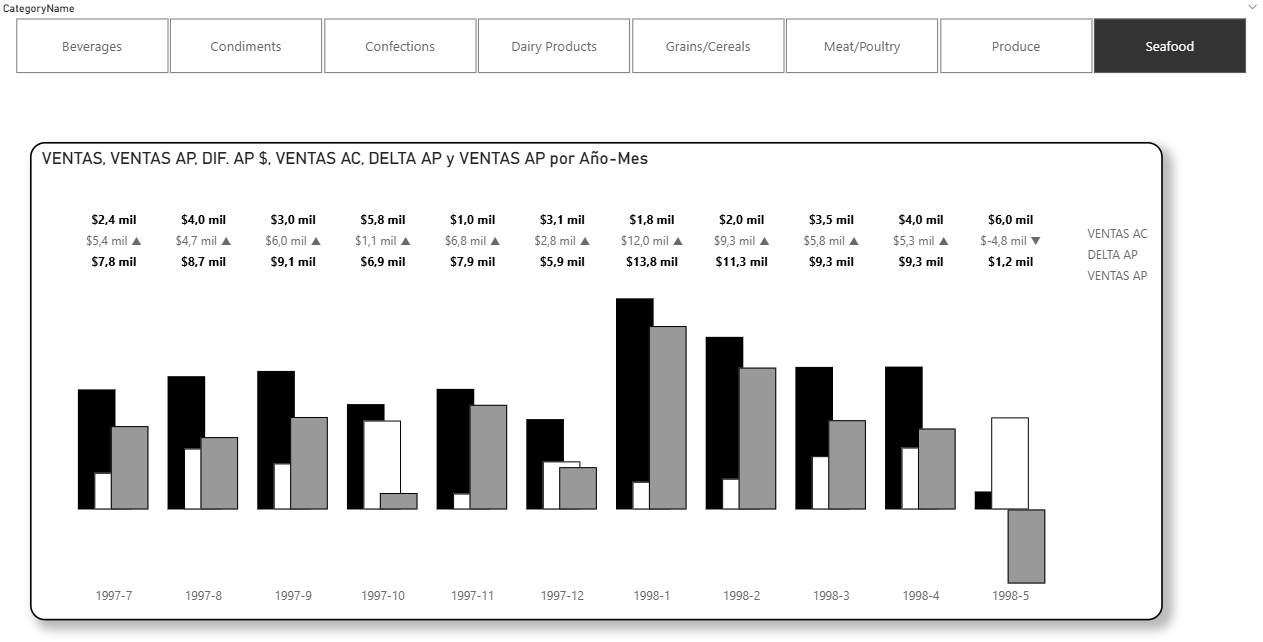

Layout of this report page (visuals, bound fields, positions):
{"tool":"powerbi","page":{"name":"COLUMNAS","canvas":[1280,720],"ordinal":2},"visuals":[{"type":"slicer","fields":{"Values":["Categories.CategoryName"]},"box":[0,0,1280,83.3],"z":0},{"type":"lineClusteredColumnComboChart","fields":{"Category":["CALENDARIO.Año-Mes"],"Y":["MEDIDAS.VENTAS","MEDIDAS.VENTAS AP","MEDIDAS.DIF. AP $"],"Y2":["MEDIDAS.Linea Ficticia","MEDIDAS.Linea Ficticia 2","MEDIDAS.Linea Ficticia 3"]},"box":[39.5,144.9,1132.7,478.5],"z":1000}]}

Visuals, with their boxes on the page's 1280x720 design canvas (x1, y1, x2, y2). These are canvas units, not pixel positions in the 1263x642 screenshot, which may show the page scaled, cropped or inside an application window:
slicer - Categories.CategoryName: BBox(0, 0, 1280, 83)
lineClusteredColumnComboChart - CALENDARIO.Año-Mes x MEDIDAS.VENTAS: BBox(40, 145, 1172, 623)
